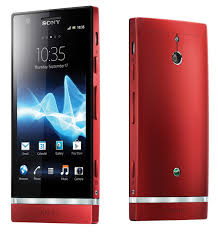sony: (6, 4, 102, 225), (125, 17, 210, 222)
